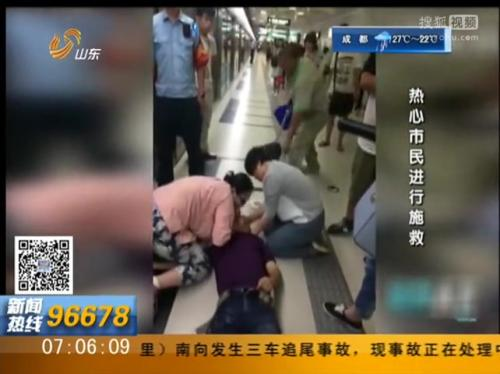10+: (149, 4, 390, 339)
down: (199, 207, 282, 339)
